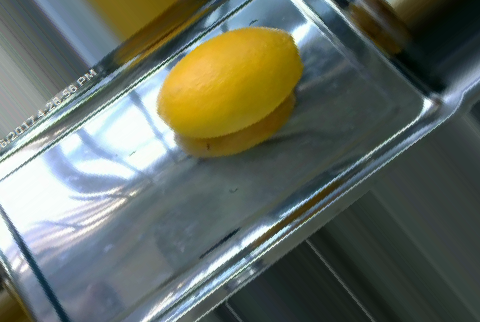Orange: (156, 24, 304, 138)
